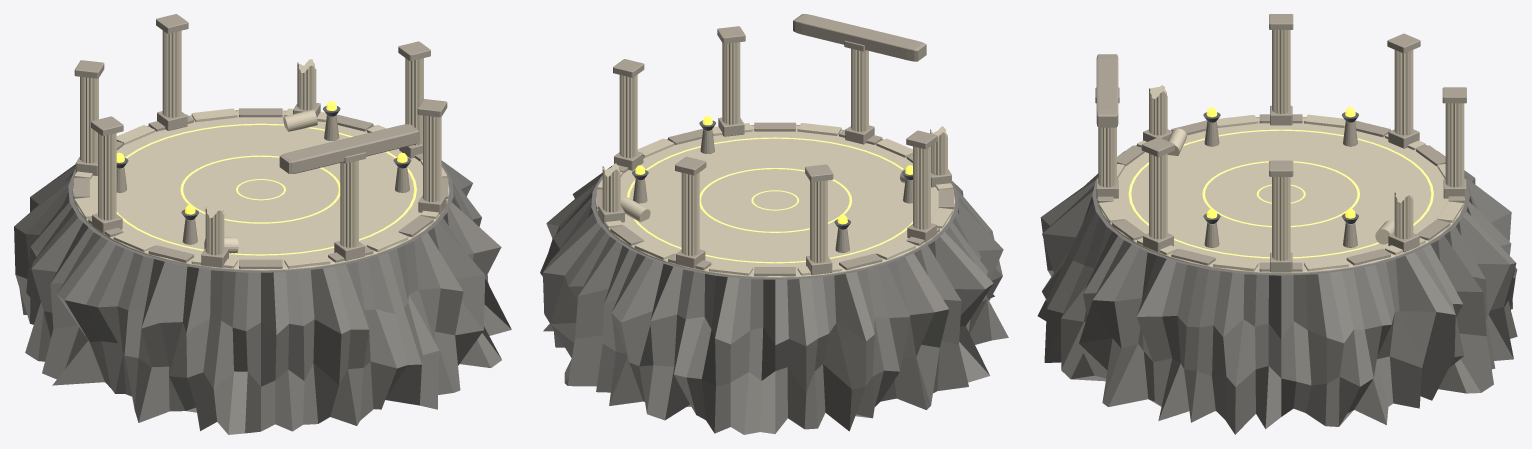
Rendered from colosseum_arena.glb.
The picture shows the model from 3 angles, left to right: view 1: azimuth 30°, elevation 25°; view 2: azimuth 150°, elevation 25°; view 3: azimuth 270°, elevation 25°; orthographic projection. The views are drawn at different scales.
Parts seen in each view (by area): view 1: CliffIslandBase, ArenaMainFloor, AncientArchBeam, PillarShaft_2, PillarShaft_4, PillarShaft_7, PillarShaft_6, PillarShaft_3, PillarShaft_0, AncientReliefRing_0, PillarShaft_5, PillarShaft_1 (+5 smaller); view 2: CliffIslandBase, ArenaMainFloor, AncientArchBeam, PillarShaft_2, PillarShaft_7, PillarShaft_0, PillarShaft_4, PillarShaft_6, PillarShaft_3, AncientReliefRing_0, PillarShaft_1, PillarShaft_5 (+2 smaller); view 3: CliffIslandBase, ArenaMainFloor, AncientArchBeam, PillarShaft_2, PillarShaft_3, PillarShaft_7, PillarShaft_4, PillarShaft_0, AncientReliefRing_0, PillarShaft_6, PillarShaft_1, PillarShaft_5 (+3 smaller).
Boxes of the visible parts, x1,y1,x2,y2 form: CliffIslandBase: (14, 110, 511, 434); ArenaMainFloor: (72, 111, 449, 270); AncientArchBeam: (279, 124, 419, 173); PillarShaft_2: (162, 30, 181, 117); PillarShaft_4: (98, 133, 116, 220); PillarShaft_7: (423, 115, 441, 202); PillarShaft_6: (340, 160, 358, 247); PillarShaft_3: (80, 76, 98, 163); PillarShaft_0: (405, 58, 423, 145); AncientReliefRing_0: (116, 123, 416, 255); PillarShaft_5: (205, 204, 224, 255); PillarShaft_1: (297, 59, 316, 110); CliffIslandBase: (540, 124, 1008, 434); ArenaMainFloor: (595, 125, 955, 277); AncientArchBeam: (793, 14, 926, 61); PillarShaft_2: (681, 172, 699, 255); PillarShaft_7: (722, 42, 740, 124); PillarShaft_0: (619, 75, 637, 157); PillarShaft_4: (913, 146, 930, 229); PillarShaft_6: (851, 48, 868, 131); PillarShaft_3: (810, 180, 827, 262); AncientReliefRing_0: (627, 137, 912, 263); PillarShaft_1: (602, 163, 620, 212); PillarShaft_5: (930, 126, 947, 175); CliffIslandBase: (1037, 117, 1517, 434); ArenaMainFloor: (1097, 117, 1465, 273); AncientArchBeam: (1096, 54, 1118, 127); PillarShaft_2: (1445, 103, 1464, 187); PillarShaft_3: (1394, 50, 1413, 135); PillarShaft_7: (1149, 153, 1167, 239); PillarShaft_4: (1272, 30, 1290, 113); PillarShaft_0: (1272, 177, 1290, 260); AncientReliefRing_0: (1128, 129, 1433, 258); PillarShaft_6: (1098, 127, 1116, 187); PillarShaft_1: (1394, 189, 1413, 239); PillarShaft_5: (1149, 85, 1167, 135).
Size of the model in its own units: 28.92 by 16.62 by 28.62.
